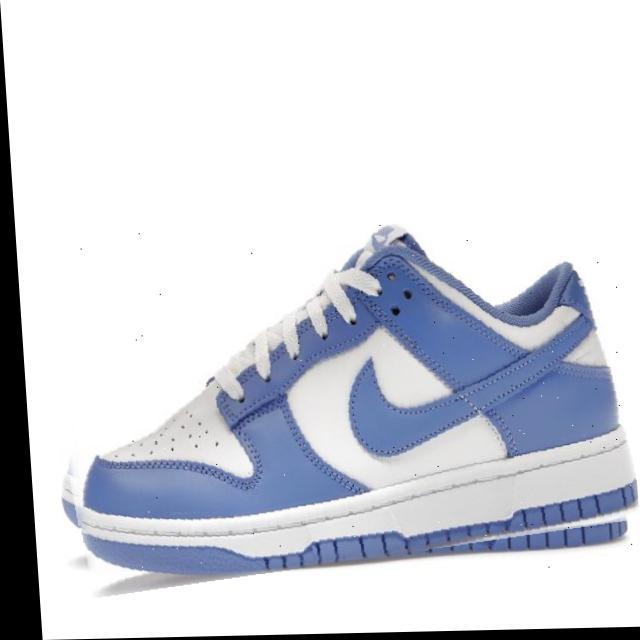J1_ShoeLogo: (60, 222, 639, 577)
J1_StitchPattern: (60, 427, 637, 576), (104, 259, 385, 471), (205, 238, 513, 404), (259, 479, 637, 572), (208, 262, 384, 401), (124, 408, 223, 459)
